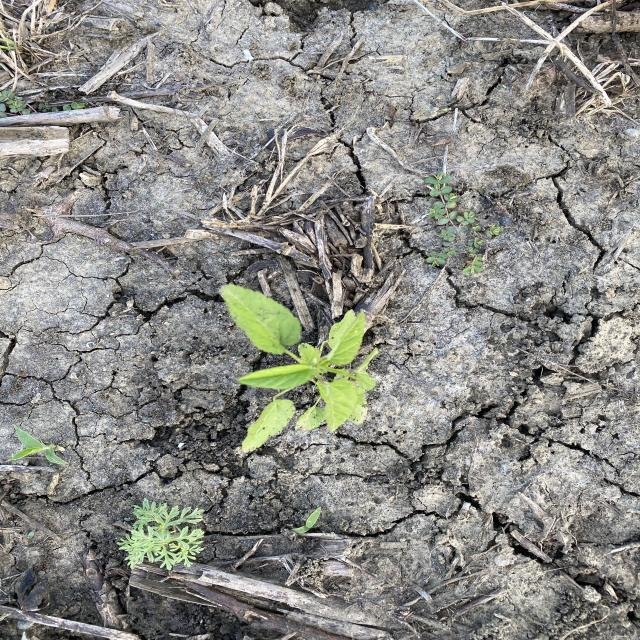PricklySida: (217, 282, 382, 456)
Ragweed: (116, 498, 207, 572)
SpottedSpurge: (424, 170, 501, 276), (1, 90, 87, 121)
